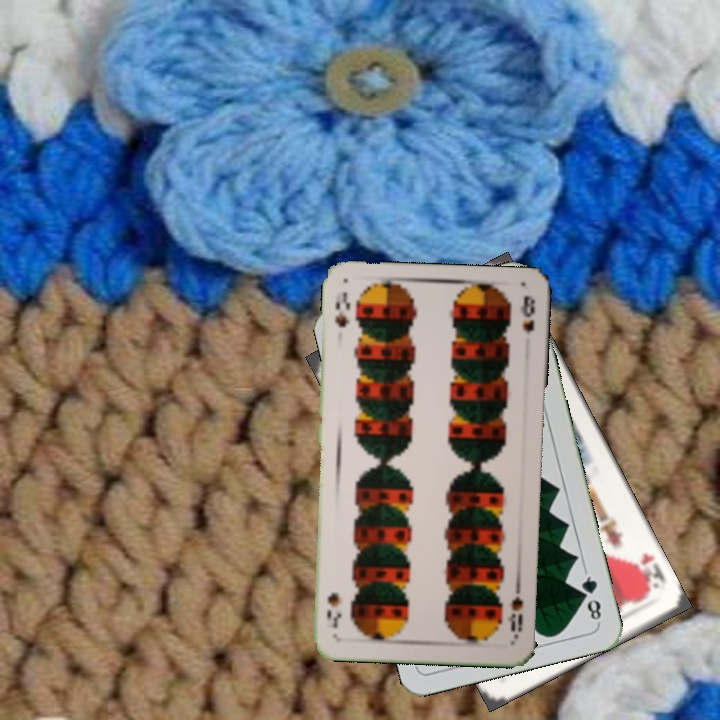G8: (577, 567, 604, 626)
HK: (630, 549, 669, 595)
S8: (503, 582, 526, 641), (331, 288, 352, 329)
